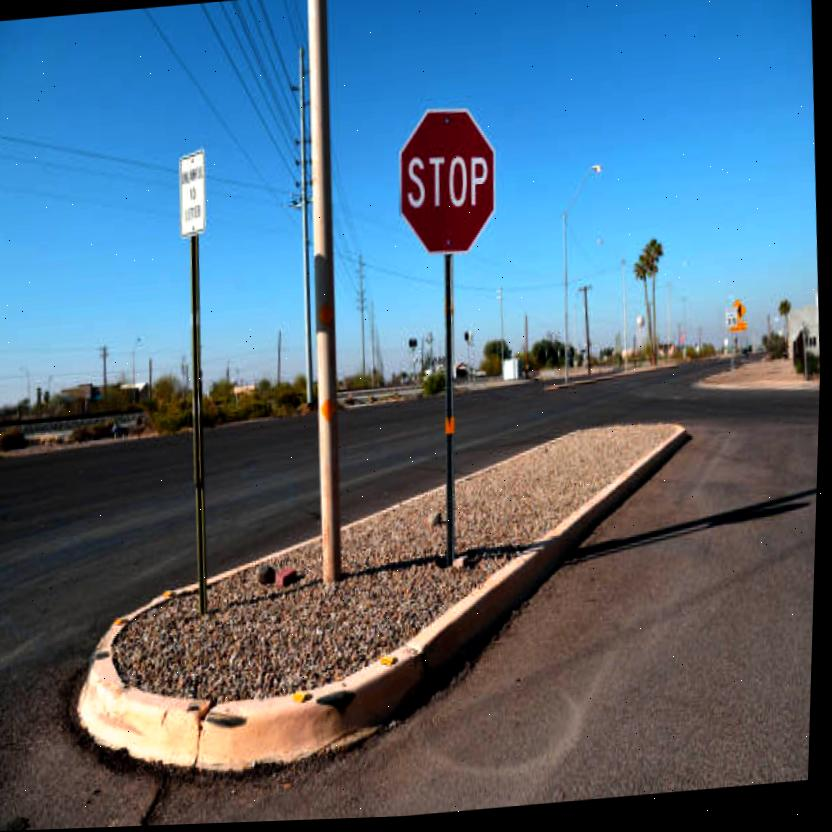Pole: (178, 237, 223, 614), (433, 257, 473, 563)
Sign: (395, 109, 502, 262)
